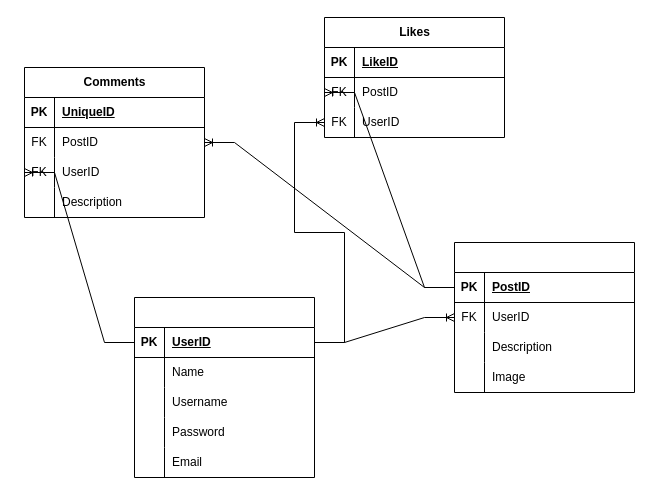
Image size: 652x495. Some labels were removed from this diagram. Each missing label, with the box of its shape:
Posts: (454, 242, 634, 392)
Users: (134, 296, 314, 478)
